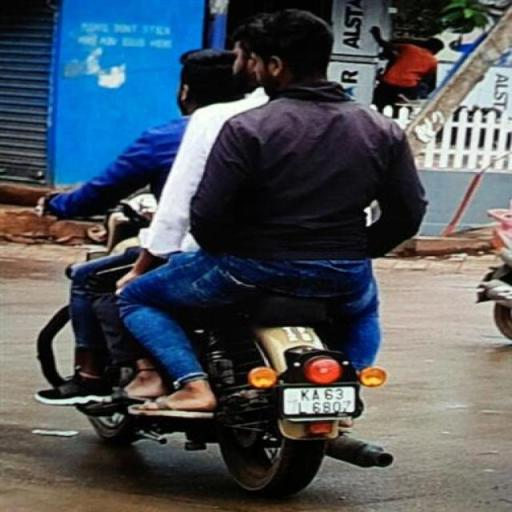tripple riding: (30, 9, 434, 293)
